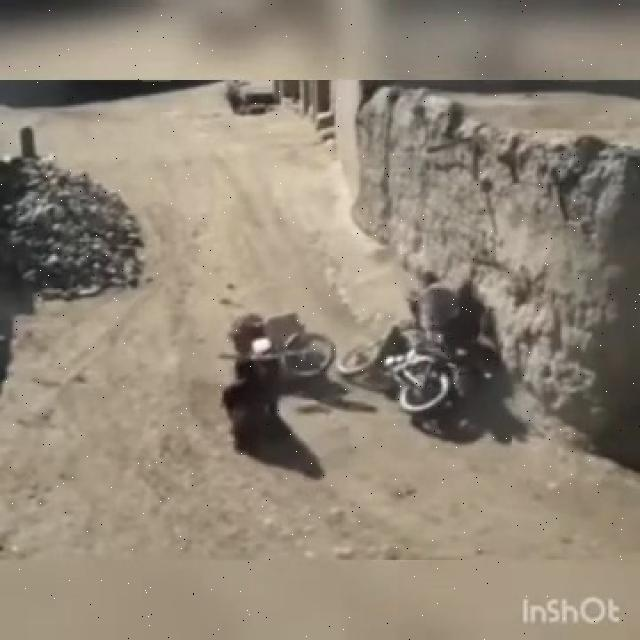accident: (342, 313, 500, 423), (220, 306, 338, 388)
